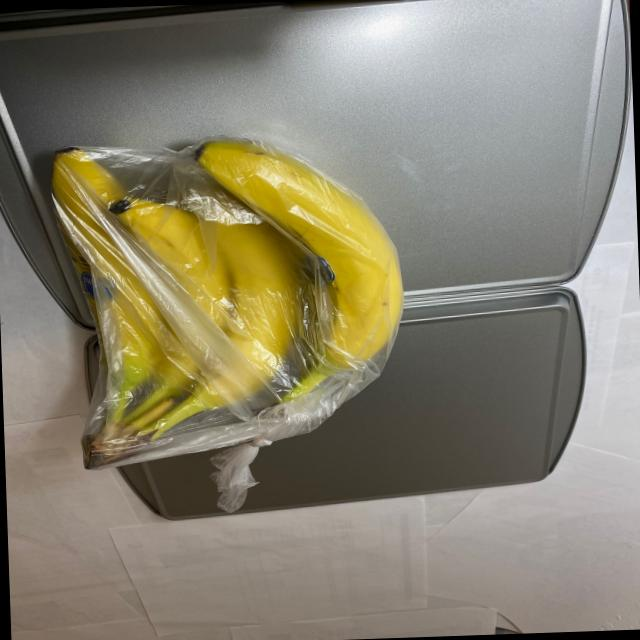banana: (39, 103, 407, 474)
